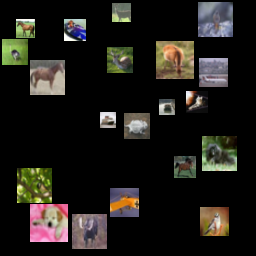airplane: (199, 58, 228, 87), (110, 188, 139, 217)
bird: (17, 168, 52, 203), (198, 2, 233, 37), (200, 207, 229, 236), (2, 39, 28, 65)
cat: (186, 91, 208, 113)
deer: (156, 41, 194, 79), (72, 214, 107, 249), (107, 47, 133, 73), (112, 3, 131, 22)
dog: (30, 204, 68, 242), (202, 136, 237, 171)
frog: (124, 113, 150, 139)
ship: (64, 19, 86, 41), (159, 99, 175, 115), (100, 112, 116, 128)
